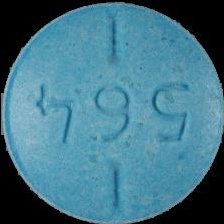63187-611: (0, 0, 224, 224)
